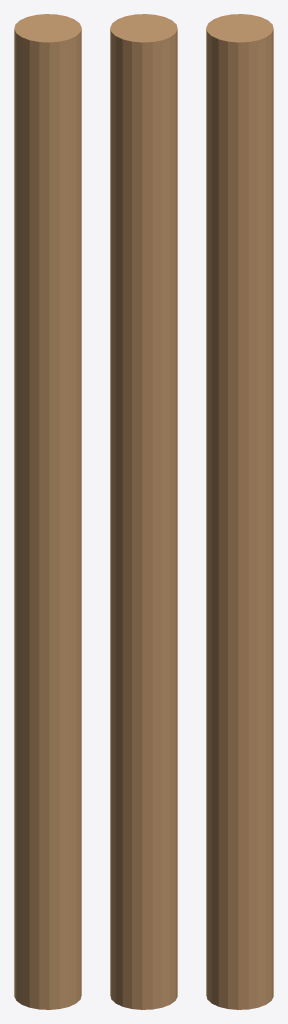
The model's file is TelComPole.obj.
3 renders of one model, left to right at view 1: azimuth 30°, elevation 25°; view 2: azimuth 150°, elevation 25°; view 3: azimuth 330°, elevation 25°, orthographic.
Parts seen in each view (by area): view 1: TelComPole_TelComPole.001; view 2: TelComPole_TelComPole.001; view 3: TelComPole_TelComPole.001.
Boxes of the visible parts, x1=… form: TelComPole_TelComPole.001: x1=14, y1=14, x2=81, y2=1009; TelComPole_TelComPole.001: x1=110, y1=14, x2=177, y2=1009; TelComPole_TelComPole.001: x1=206, y1=14, x2=273, y2=1009.
Size of the model in its own units: 0.375 by 6 by 0.375.
Materials: 1 (1 with a texture image).
